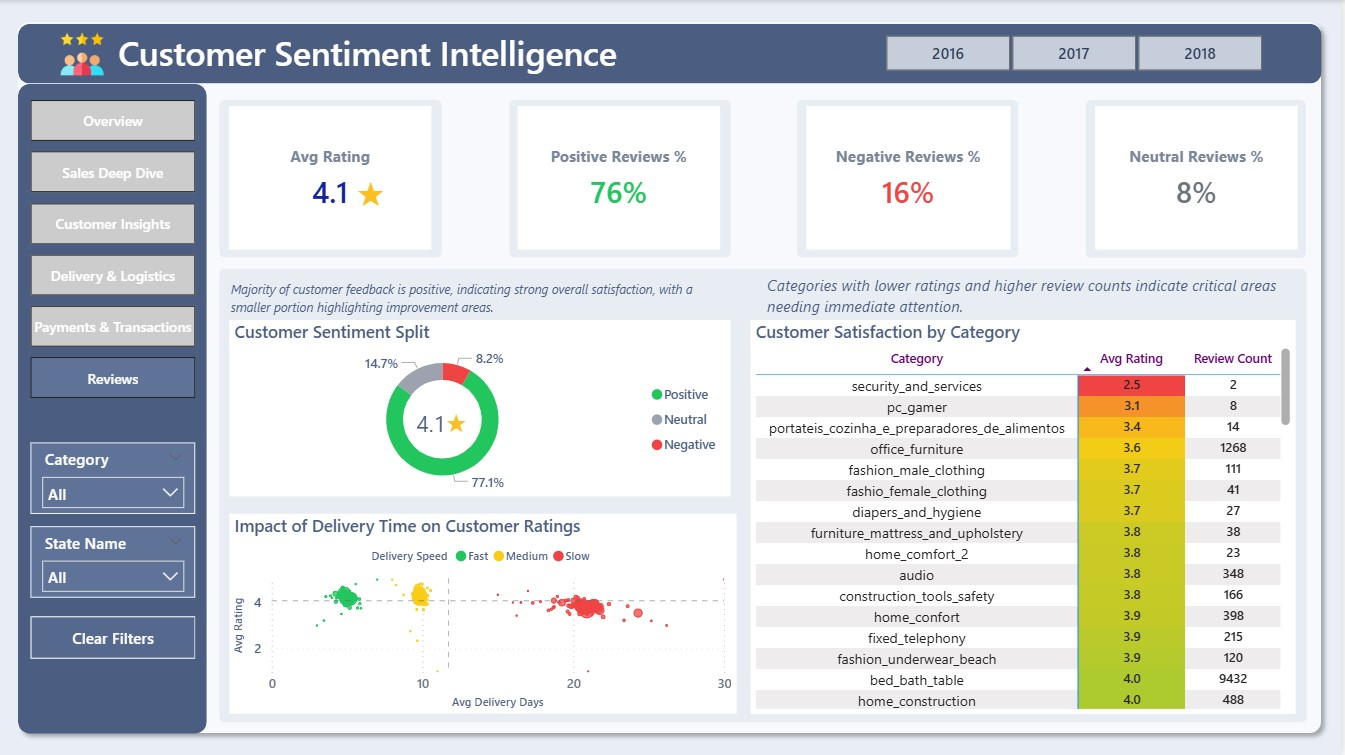

The dashboard page shown, as its layout file describes it:
{"tool":"powerbi","page":{"name":"Reviews","canvas":[1280,720],"ordinal":5},"visuals":[{"type":"shape","box":[9.5,11.9,1259.5,695.2],"z":0},{"type":"shape","box":[19,22.6,1241.7,57.1],"z":1000},{"type":"textbox","box":[109.5,23.8,600,54.8],"z":2000},{"type":"slicer","fields":{"Values":["DimDate.Year"]},"box":[823.8,31,400,39.3],"z":3000},{"type":"shape","box":[19,79.8,179.8,619.1],"z":4000},{"type":"slicer","fields":{"Values":["bi_fact_sales_full.category"]},"box":[31,421.4,157.1,67.9],"z":5000},{"type":"slicer","fields":{"Values":["bi_fact_sales_full.State Name"]},"box":[31,501.2,157.1,67.9],"z":6000},{"type":"actionButton","box":[31,586.9,157.1,40.5],"z":7000},{"type":"shape","box":[210.7,95.1,211.9,150],"z":8000},{"type":"cardVisual","fields":{"Data":["bi_fact_sales_full.Avg Rating Display"]},"box":[211.9,90.5,209,154.8],"z":9000},{"type":"shape","box":[486.4,95.1,211,150],"z":10000},{"type":"shape","box":[761.1,95.1,211,150],"z":11000},{"type":"shape","box":[1035.8,95.1,210.1,150.6],"z":12000},{"type":"cardVisual","fields":{"Data":["bi_fact_sales_full.Neutral %"]},"box":[1036.9,90.5,209.5,154.8],"z":13000},{"type":"cardVisual","fields":{"Data":["bi_fact_sales_full.Negative Reviews %"]},"box":[761.6,90.5,209.5,154.8],"z":14000},{"type":"cardVisual","fields":{"Data":["bi_fact_sales_full.Positive Reviews %"]},"box":[486.7,90.5,209,154.8],"z":15000},{"type":"shape","box":[210.7,256,1035.7,432.1],"z":16000},{"type":"textbox","box":[316.7,157.1,76.2,56],"z":17000},{"type":"donutChart","title":"Customer Sentiment Split","fields":{"Category":["olist_order_reviews_dataset.Review Type"],"Y":["olist_order_reviews_dataset.Review Count"]},"box":[220.2,304.8,477.4,167.9],"z":18000},{"type":"textbox","box":[384.5,381,76.2,53.6],"z":19000},{"type":"textbox","box":[216.7,260.7,486.9,51.2],"z":20000},{"type":"pivotTable","title":"Customer Satisfaction by Category","fields":{"Rows":["bi_fact_sales_full.category"],"Values":["bi_fact_sales_full.Avg Rating","olist_order_reviews_dataset.Review Count"]},"box":[716.7,304.8,519.1,375],"z":21000},{"type":"scatterChart","title":"Impact of Delivery Time on Customer Ratings","fields":{"Y":["bi_fact_sales_full.Avg Rating"],"X":["bi_fact_sales_full.Avg Delivery Days"],"Size":["bi_fact_sales_full.Orders"],"Category":["bi_fact_sales_full.category"],"Series":["bi_fact_sales_full.Delivery Speed"]},"box":[220.2,489.3,483.3,190.5],"z":22000},{"type":"textbox","box":[727.4,256,508.3,51.2],"z":23000},{"type":"pageNavigator","box":[31,95.2,157.1,284.5],"z":24000},{"type":"image","box":[31,31,98.8,40.5],"z":24001}]}

Visuals, with their boxes on the page's 1280x720 design canvas (x1, y1, x2, y2). These are canvas units, not pixel positions in the 1345x755 screenshot, which may show the page scaled, cropped or inside an application window:
shape: [left=10, top=12, right=1269, bottom=707]
shape: [left=19, top=23, right=1261, bottom=80]
textbox: [left=110, top=24, right=710, bottom=79]
slicer - DimDate.Year: [left=824, top=31, right=1224, bottom=70]
shape: [left=19, top=80, right=199, bottom=699]
slicer - bi_fact_sales_full.category: [left=31, top=421, right=188, bottom=489]
slicer - bi_fact_sales_full.State Name: [left=31, top=501, right=188, bottom=569]
actionButton: [left=31, top=587, right=188, bottom=627]
shape: [left=211, top=95, right=423, bottom=245]
cardVisual - bi_fact_sales_full.Avg Rating Display: [left=212, top=90, right=421, bottom=245]
shape: [left=486, top=95, right=697, bottom=245]
shape: [left=761, top=95, right=972, bottom=245]
shape: [left=1036, top=95, right=1246, bottom=246]
cardVisual - bi_fact_sales_full.Neutral %: [left=1037, top=90, right=1246, bottom=245]
cardVisual - bi_fact_sales_full.Negative Reviews %: [left=762, top=90, right=971, bottom=245]
cardVisual - bi_fact_sales_full.Positive Reviews %: [left=487, top=90, right=696, bottom=245]
shape: [left=211, top=256, right=1246, bottom=688]
textbox: [left=317, top=157, right=393, bottom=213]
"Customer Sentiment Split" donutChart: [left=220, top=305, right=698, bottom=473]
textbox: [left=384, top=381, right=461, bottom=435]
textbox: [left=217, top=261, right=704, bottom=312]
"Customer Satisfaction by Category" pivotTable: [left=717, top=305, right=1236, bottom=680]
"Impact of Delivery Time on Customer Ratings" scatterChart: [left=220, top=489, right=704, bottom=680]
textbox: [left=727, top=256, right=1236, bottom=307]
pageNavigator: [left=31, top=95, right=188, bottom=380]
image: [left=31, top=31, right=130, bottom=72]
